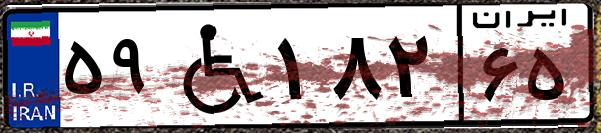1: (270, 28, 330, 110)
2: (385, 28, 445, 110)
5: (57, 26, 110, 100), (525, 38, 570, 115)
6: (475, 38, 525, 113)
8: (330, 28, 385, 110)
9: (110, 28, 158, 98)
ژ (معلولین و جانبازان): (158, 12, 270, 120)
